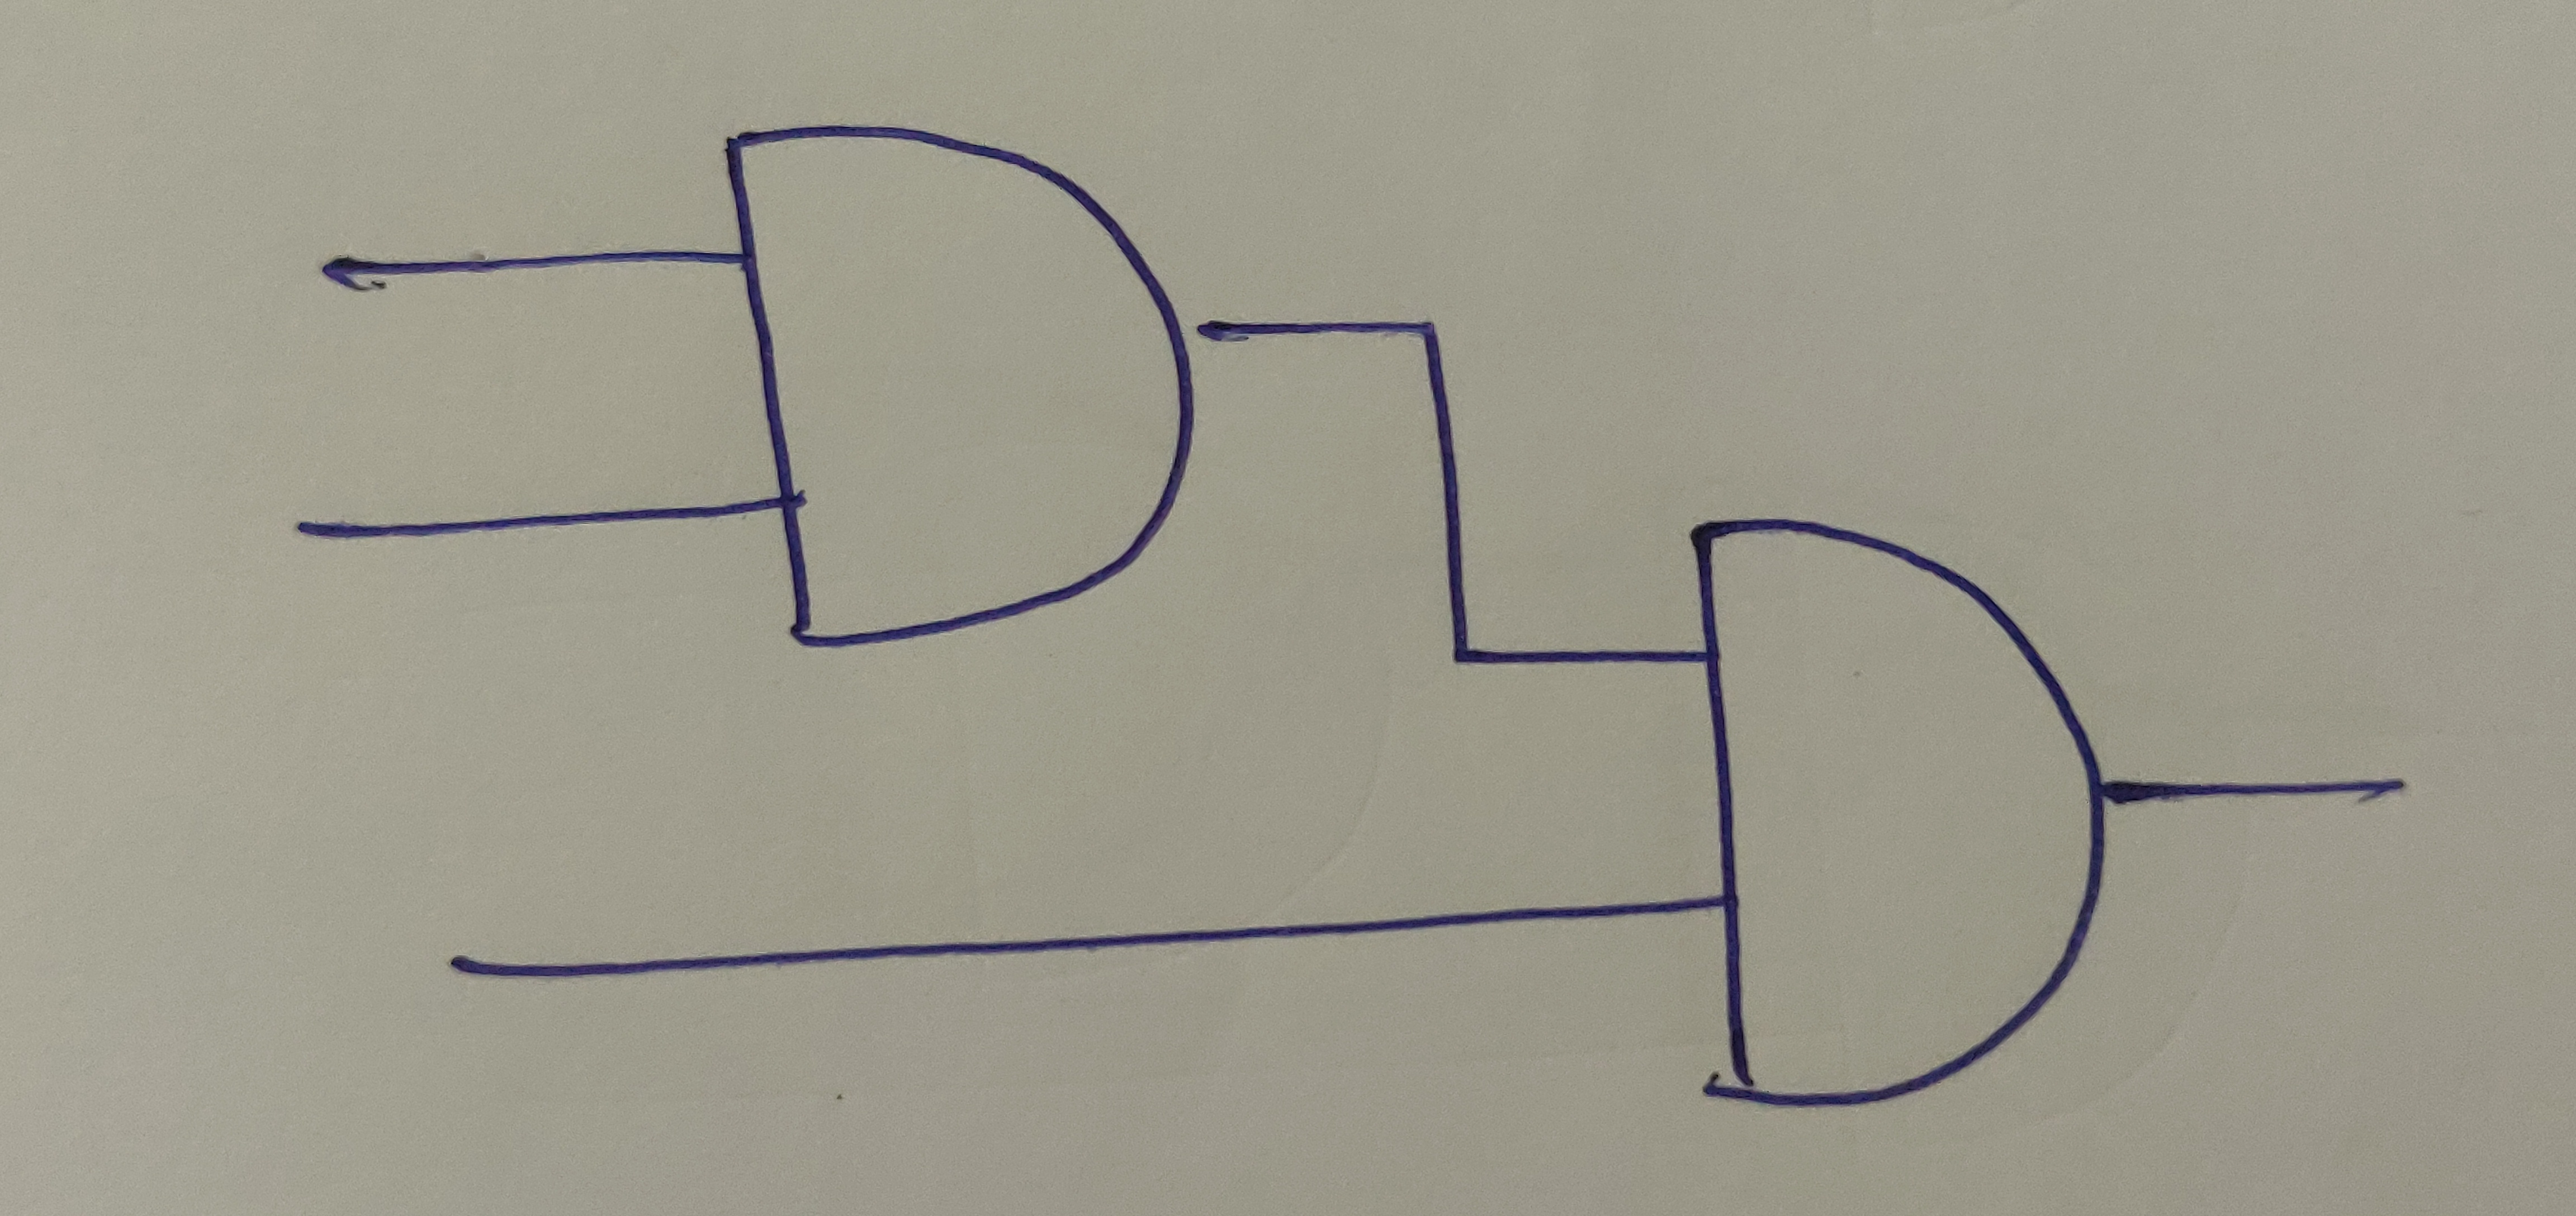and: (718, 123, 1199, 646), (1690, 516, 2106, 1112)
